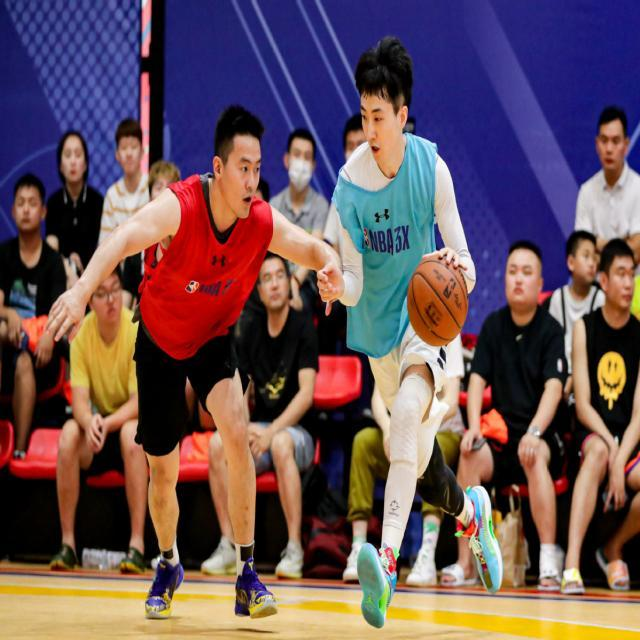rim: (410, 253, 468, 342)
